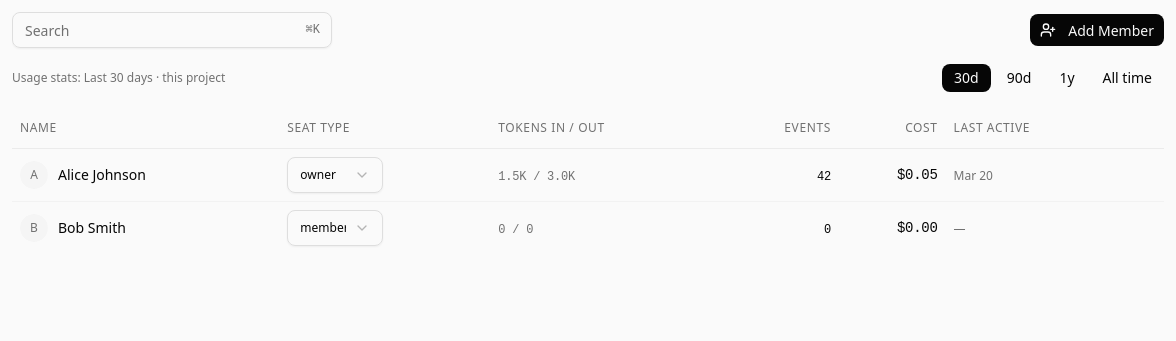
Test: ProjectMembersTab › manager view (canManageMembers=true) › lists org members when API only provides user.id (not top-level userId)
Click the button "Add Member": coordinates (1097, 30) [1030,14,1164,46]
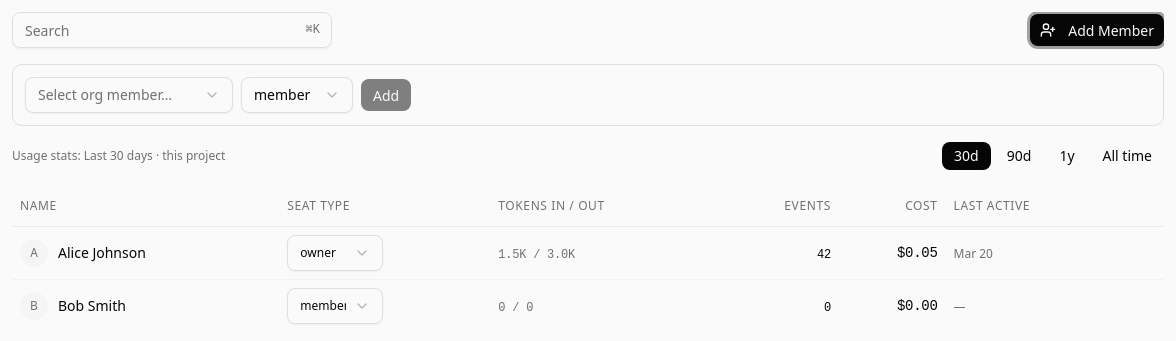
Click the dropdown labelled "Select org member…": coordinates (129, 95) [25,77,233,113]
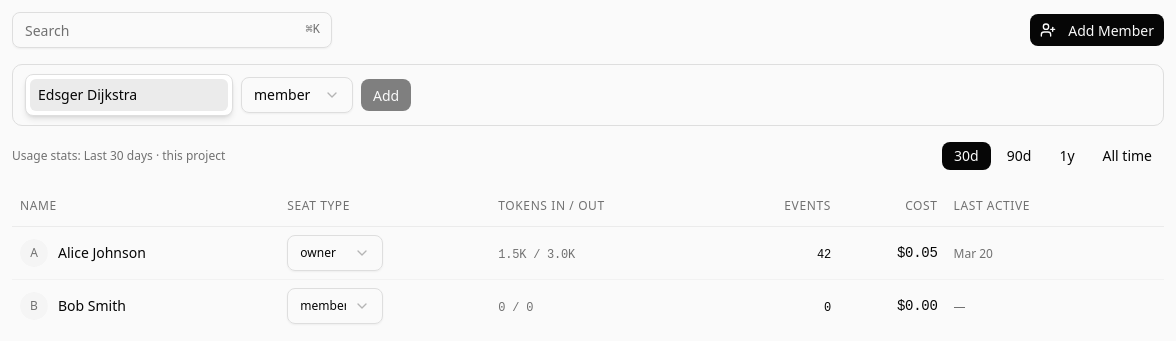
Now the option "Edsger Dijkstra" is shown, box [30,79,228,111]
